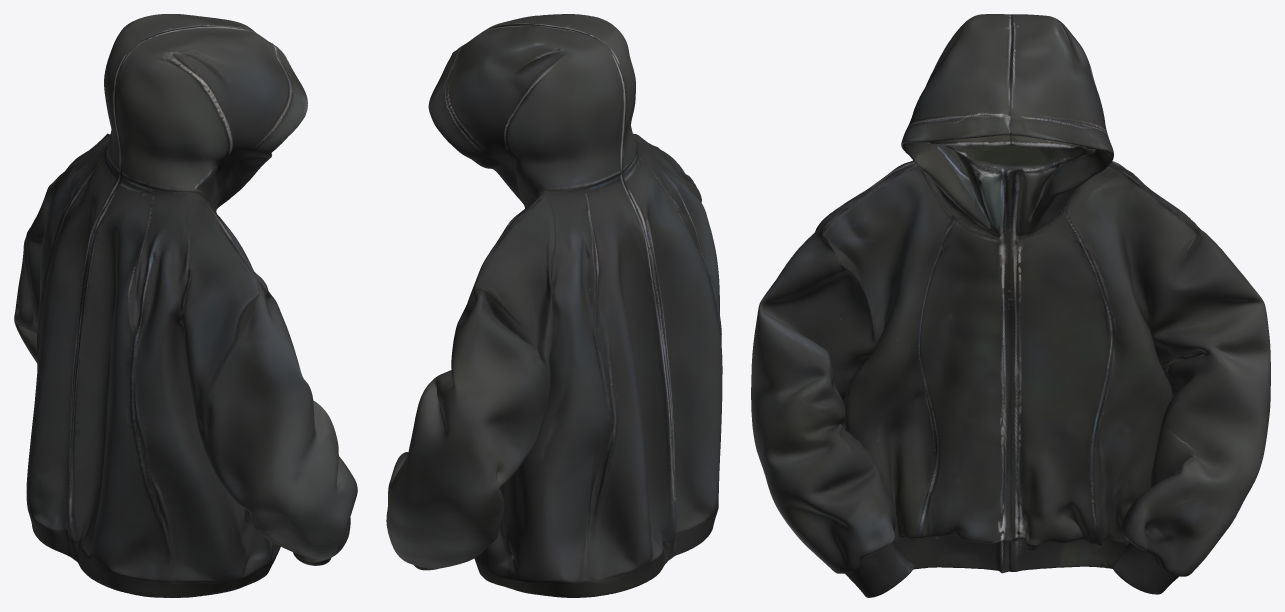
The model's file is tripo_pbr_model_fae9b539-e49f-_06480718_opt.glb.
3 views of the same model, side by side, from view 1: azimuth 30°, elevation 25°; view 2: azimuth 150°, elevation 25°; view 3: azimuth 270°, elevation 25° (orthographic). The views are drawn at different scales.
Visible parts, largest first — view 1: tripo_node_fae9b539-e49f-42b0-a95b-efe7c89bda9a; view 2: tripo_node_fae9b539-e49f-42b0-a95b-efe7c89bda9a; view 3: tripo_node_fae9b539-e49f-42b0-a95b-efe7c89bda9a.
Part boxes in pixels (x1=…): tripo_node_fae9b539-e49f-42b0-a95b-efe7c89bda9a: x1=14, y1=14, x2=357, y2=597; tripo_node_fae9b539-e49f-42b0-a95b-efe7c89bda9a: x1=386, y1=14, x2=722, y2=597; tripo_node_fae9b539-e49f-42b0-a95b-efe7c89bda9a: x1=751, y1=14, x2=1270, y2=597.
Bounding box in the file's own units: 0.4606 × 1 × 0.89.
Materials: 1 (1 with a texture image).
